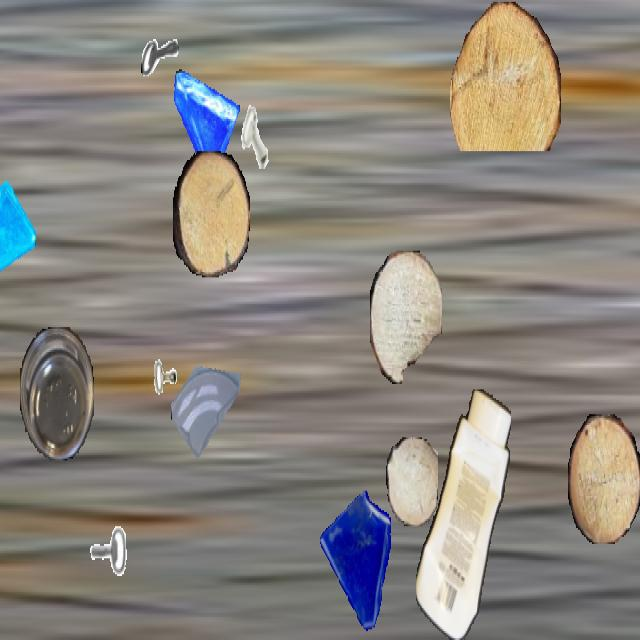glass: (316, 489, 400, 638), (171, 336, 243, 464), (170, 64, 240, 188), (0, 182, 35, 284)
metal: (230, 92, 282, 185), (79, 522, 129, 612), (138, 355, 186, 441), (141, 21, 179, 89)
plastic: (416, 390, 510, 638), (20, 327, 94, 459)
wood: (450, 2, 560, 151), (173, 151, 249, 276), (370, 251, 442, 382), (568, 414, 640, 542), (386, 438, 438, 526)
